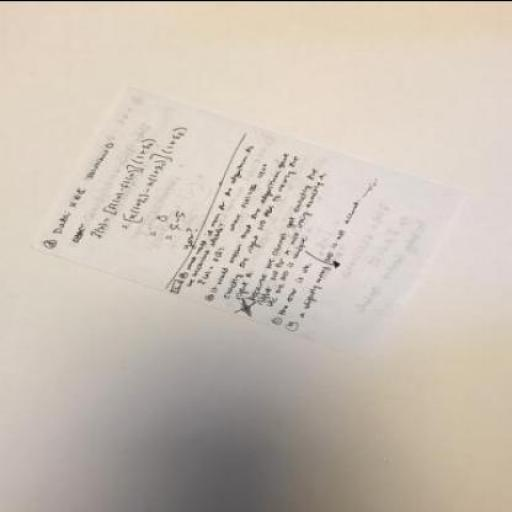paper: (33, 82, 468, 360)
